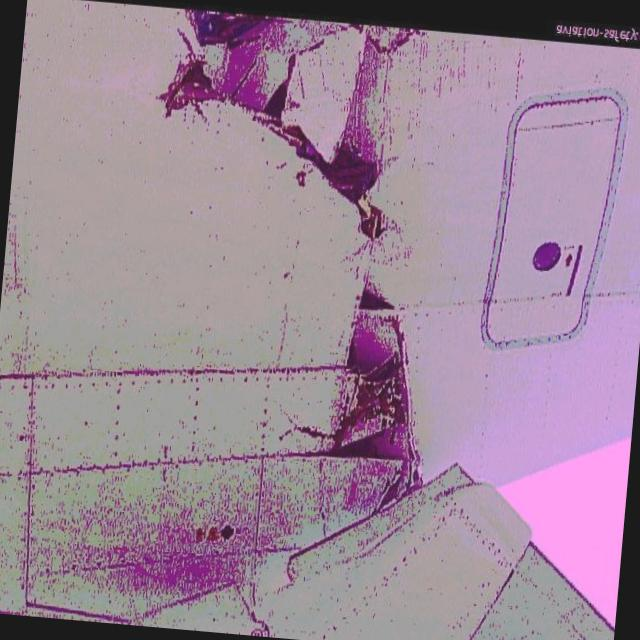crack: (140, 24, 404, 248)
